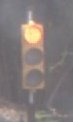Red: (20, 16, 45, 96)
